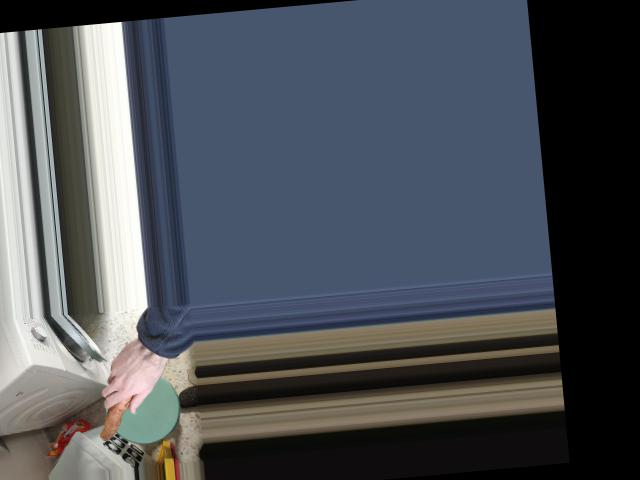sweet_potato: (93, 360, 155, 438)
